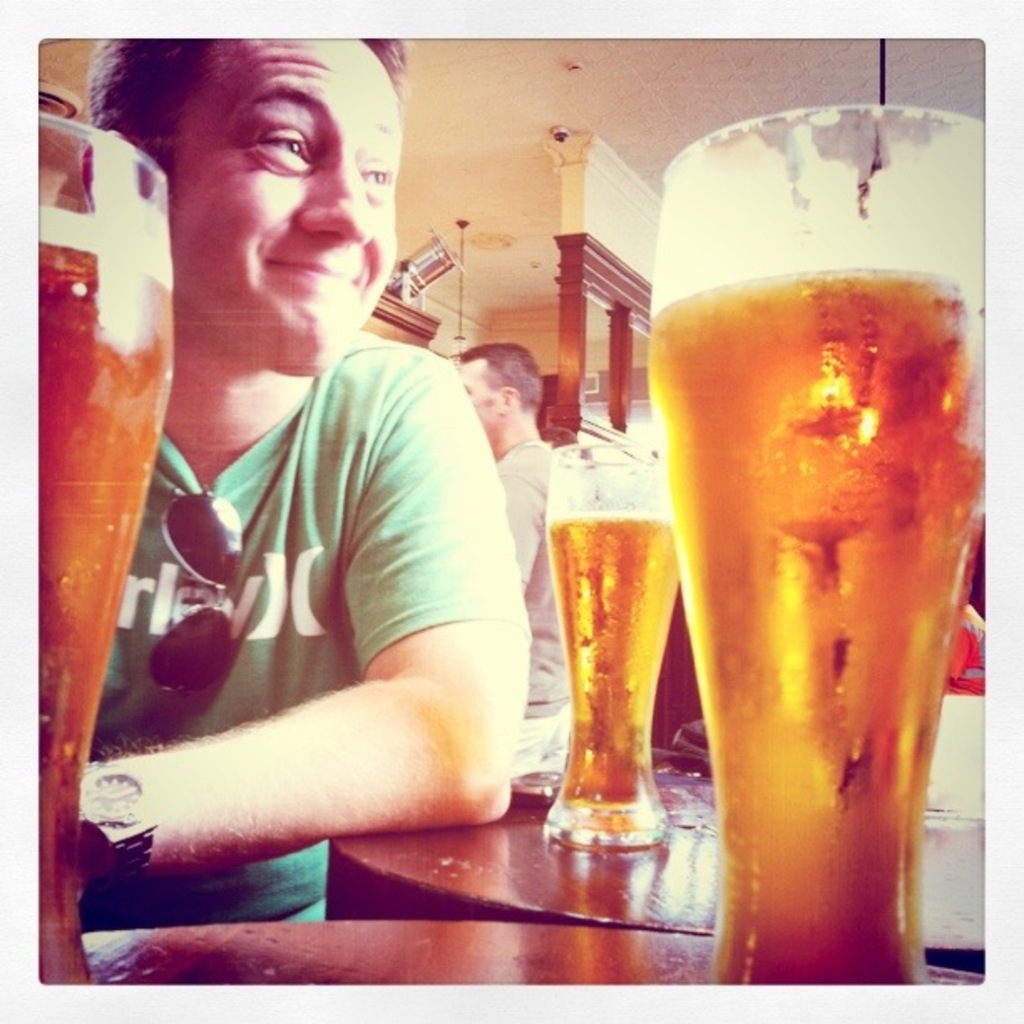Beer: (642, 264, 992, 992), (31, 194, 179, 980), (540, 512, 677, 813)
